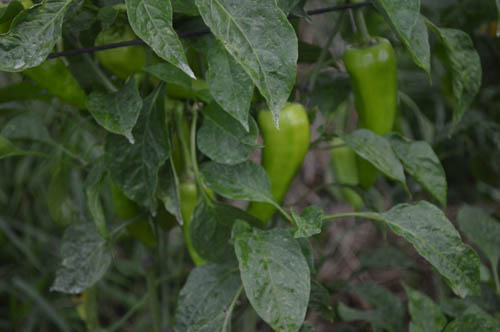ChiliPepper: (346, 41, 396, 189), (251, 104, 308, 214), (179, 180, 216, 262), (94, 35, 143, 75)
